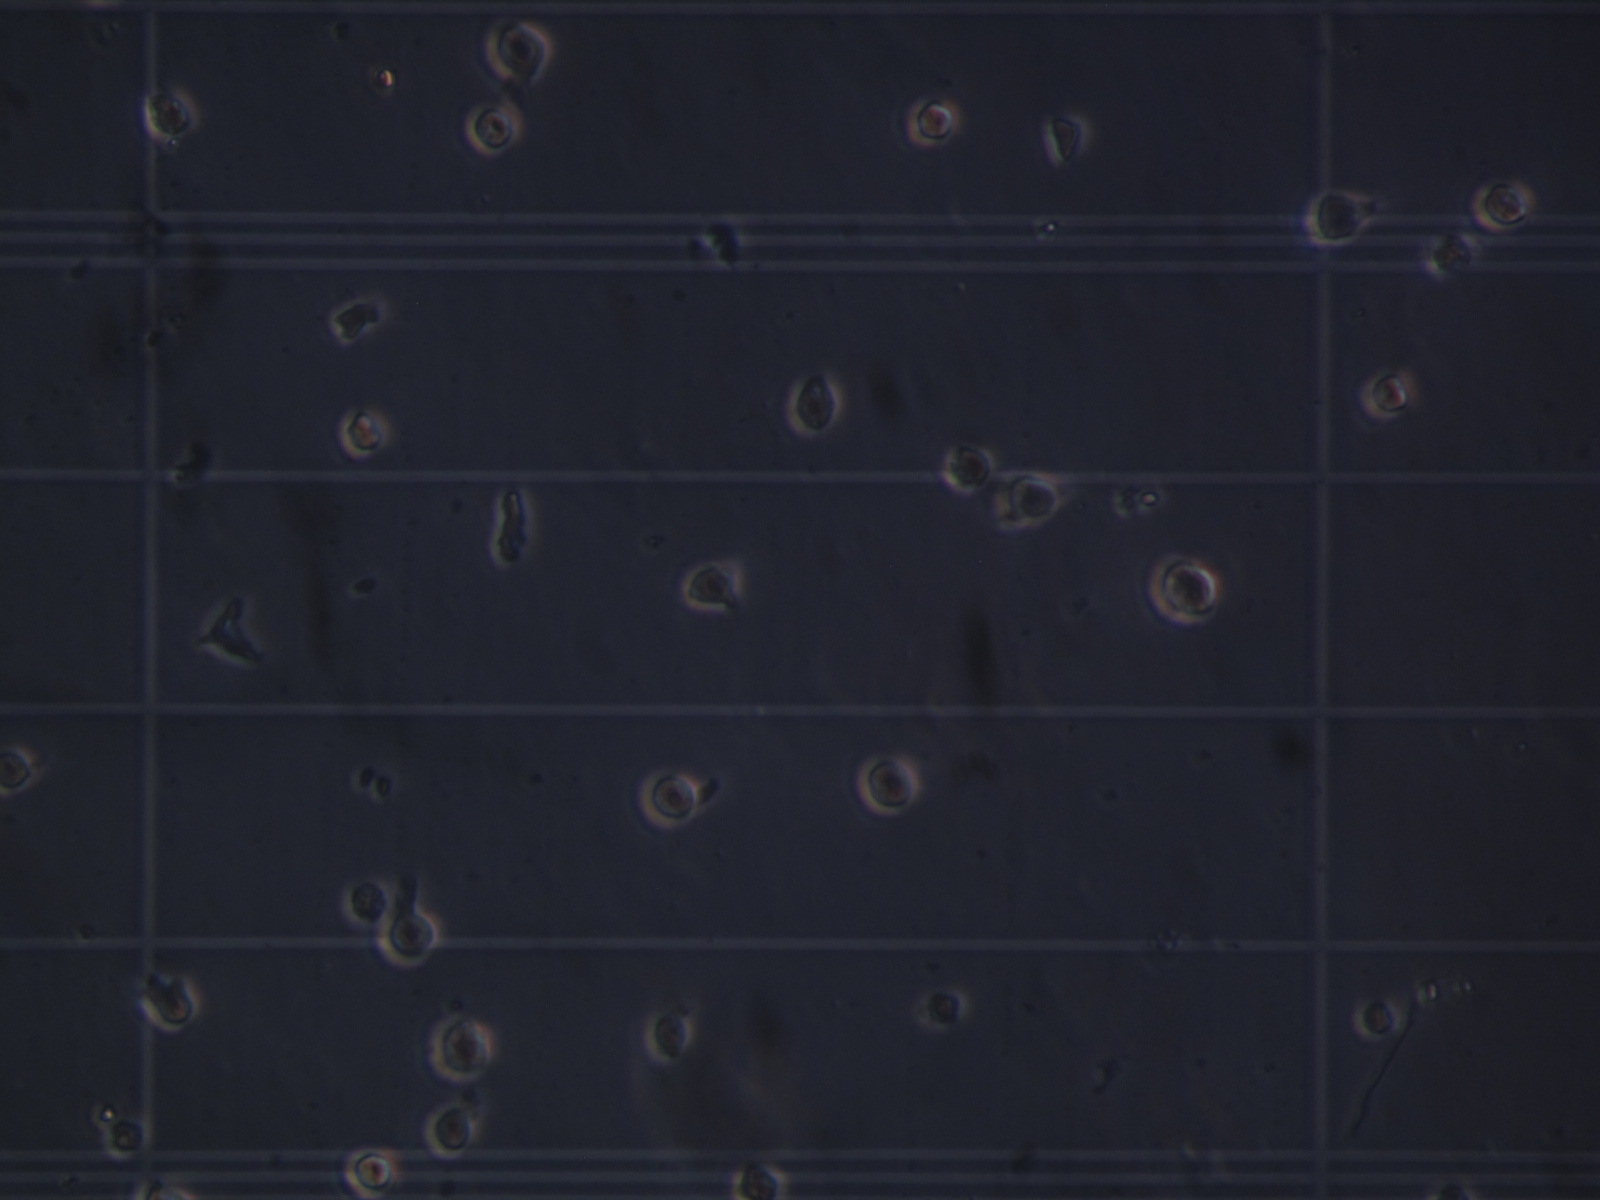hemo: (1145, 553, 1220, 626), (425, 1011, 493, 1082), (483, 19, 552, 86), (854, 753, 922, 818), (1303, 185, 1374, 247), (377, 906, 442, 972), (1465, 176, 1538, 233), (637, 766, 699, 832), (786, 371, 845, 439), (1002, 468, 1062, 528), (139, 974, 200, 1031), (682, 558, 745, 613), (465, 101, 523, 158), (1361, 366, 1420, 421), (142, 86, 199, 141), (341, 1145, 399, 1199), (940, 437, 993, 494), (908, 95, 965, 147), (423, 1100, 475, 1158), (340, 874, 392, 929), (336, 405, 389, 458), (644, 1008, 692, 1065), (728, 1157, 791, 1200), (1041, 108, 1086, 168), (1424, 233, 1480, 280), (1351, 992, 1401, 1041), (918, 987, 968, 1034), (1, 742, 40, 797), (105, 1118, 151, 1155)
